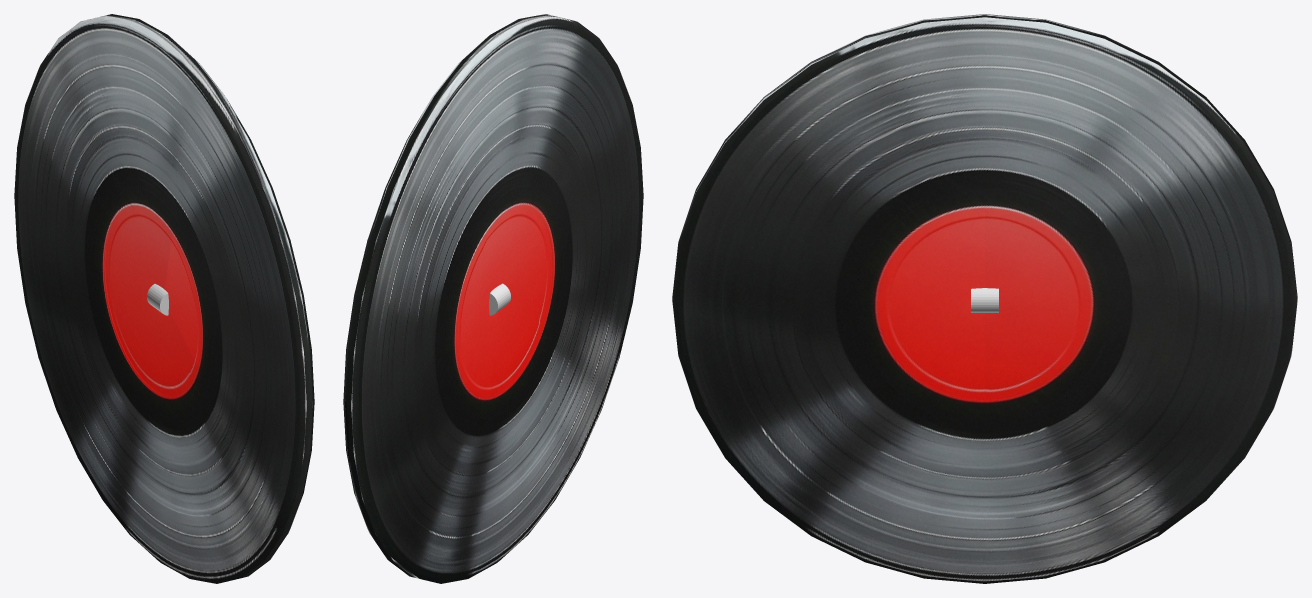
Rendered from red_vinyl.glb.
3 views of the same model, side by side, from view 1: azimuth 30°, elevation 25°; view 2: azimuth 150°, elevation 25°; view 3: azimuth 270°, elevation 25° (orthographic). The views are drawn at different scales.
Visible parts, largest first — view 1: Circle, Cylinder; view 2: Circle, Cylinder; view 3: Circle.
Part boxes in pixels (x1,y1,x2,y2): Circle: [14, 14, 314, 583]; Cylinder: [147, 284, 168, 315]; Circle: [343, 14, 643, 583]; Cylinder: [489, 283, 510, 315]; Circle: [672, 14, 1297, 583].
Bounding box in the file's own units: 0.2795 × 5.98 × 5.98.
1 material, 1 textured.
